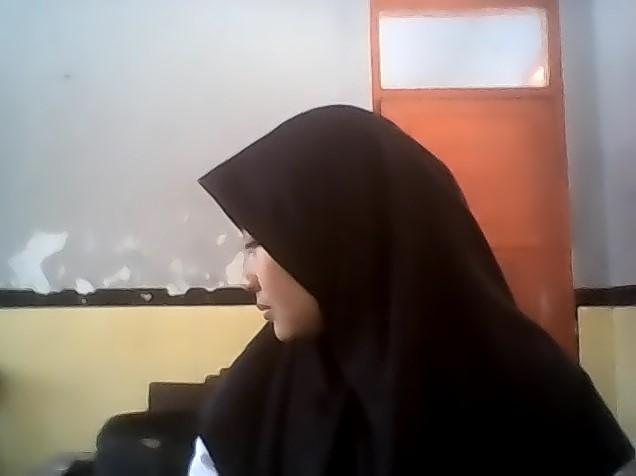cheating: (130, 92, 636, 476)
